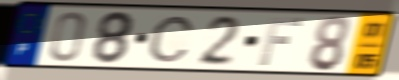0: (47, 10, 88, 63)
2: (195, 14, 243, 67)
8: (308, 13, 351, 73), (89, 10, 135, 66)
C: (146, 14, 197, 64)
F: (256, 17, 306, 68)
